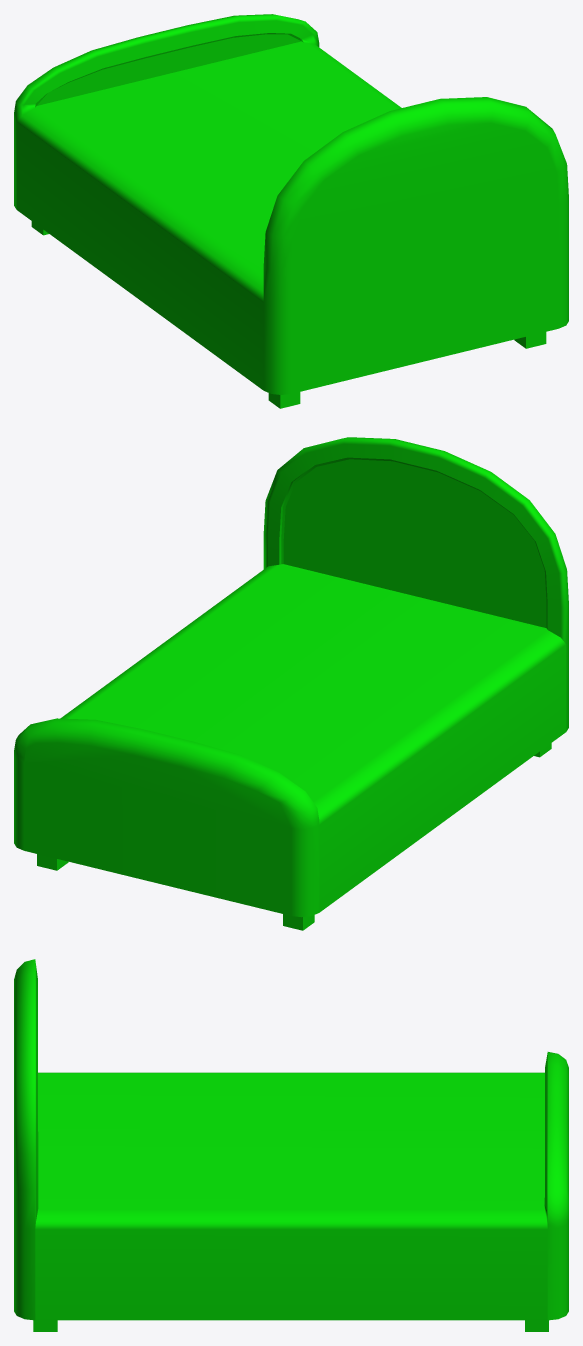
Rendered from camamatrimonial01.fbx.
3 renders of one model, top to bottom at view 1: azimuth 30°, elevation 25°; view 2: azimuth 150°, elevation 25°; view 3: azimuth 270°, elevation 25°, orthographic. The views are drawn at different scales.
Parts seen in each view (by area): view 1: CamaMatrimonial01; view 2: CamaMatrimonial01; view 3: CamaMatrimonial01.
Part boxes in pixels (x1,y1,x2,y2): CamaMatrimonial01: (14, 14, 568, 408); CamaMatrimonial01: (14, 437, 568, 930); CamaMatrimonial01: (14, 959, 568, 1331).
Size of the model in its own units: 1.5 by 1.28 by 2.3.
